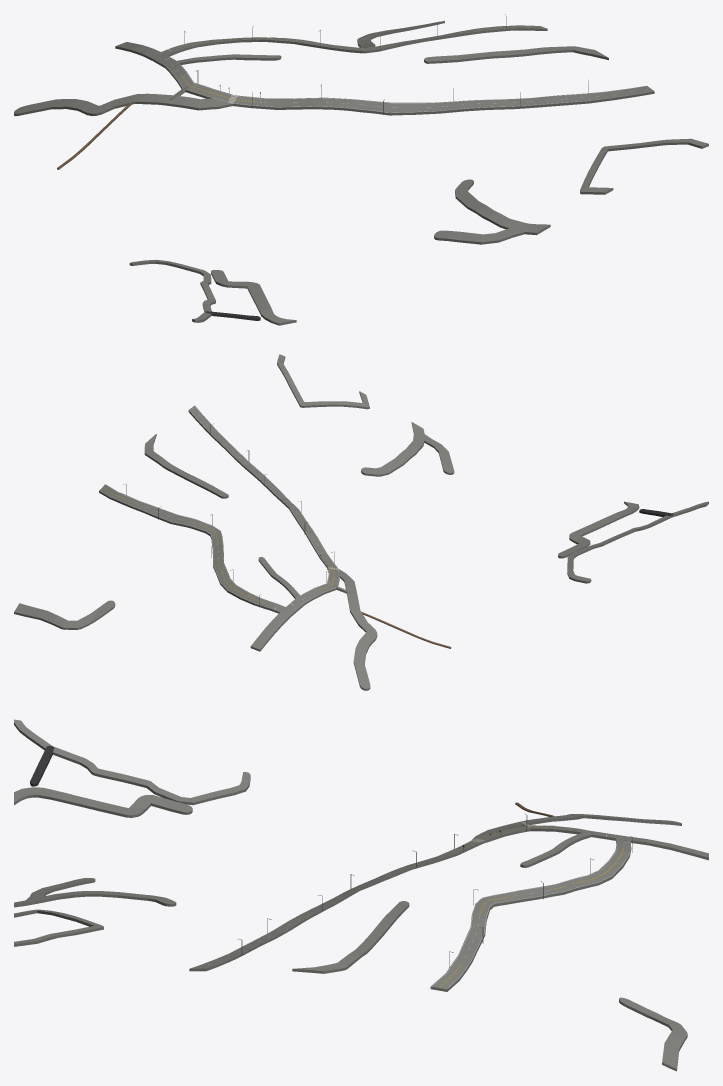
3 renders of one model, top to bottom at view 1: azimuth 30°, elevation 25°; view 2: azimuth 150°, elevation 25°; view 3: azimuth 270°, elevation 25°, orthographic. The views are drawn at different scales.
Bounding box in the file's own units: 297 × 52.91 × 292.
